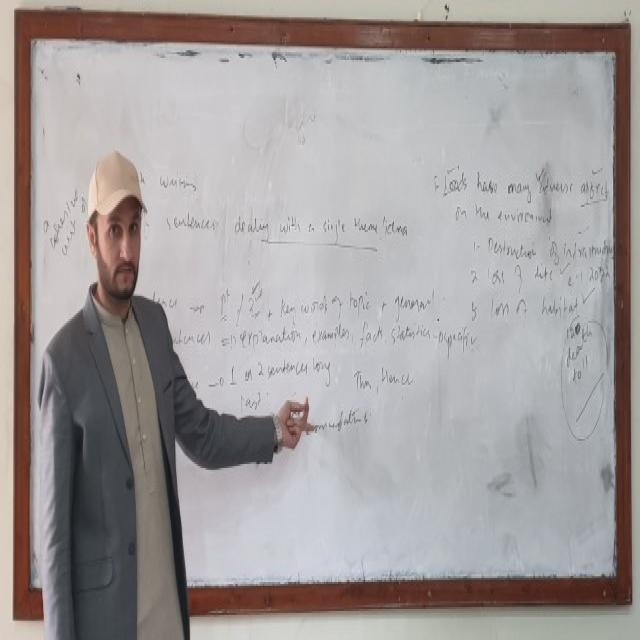Instructor: (42, 145, 189, 640)
White-board: (22, 24, 627, 605)
